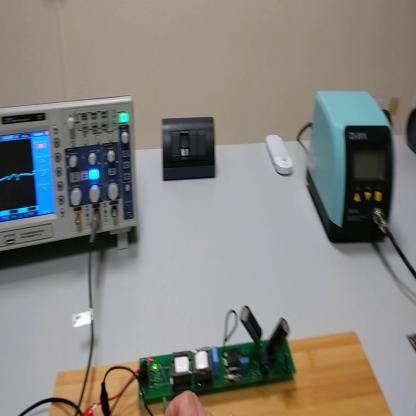hand: (168, 390, 215, 415)
high voltage board: (106, 308, 305, 408)
oscilloscope: (1, 93, 143, 276)
oscilloscope probe tip: (163, 394, 175, 415)
pliers: (407, 328, 416, 351)
socket: (407, 111, 416, 158)
welder station: (307, 87, 397, 247)
working area: (50, 334, 394, 416)
